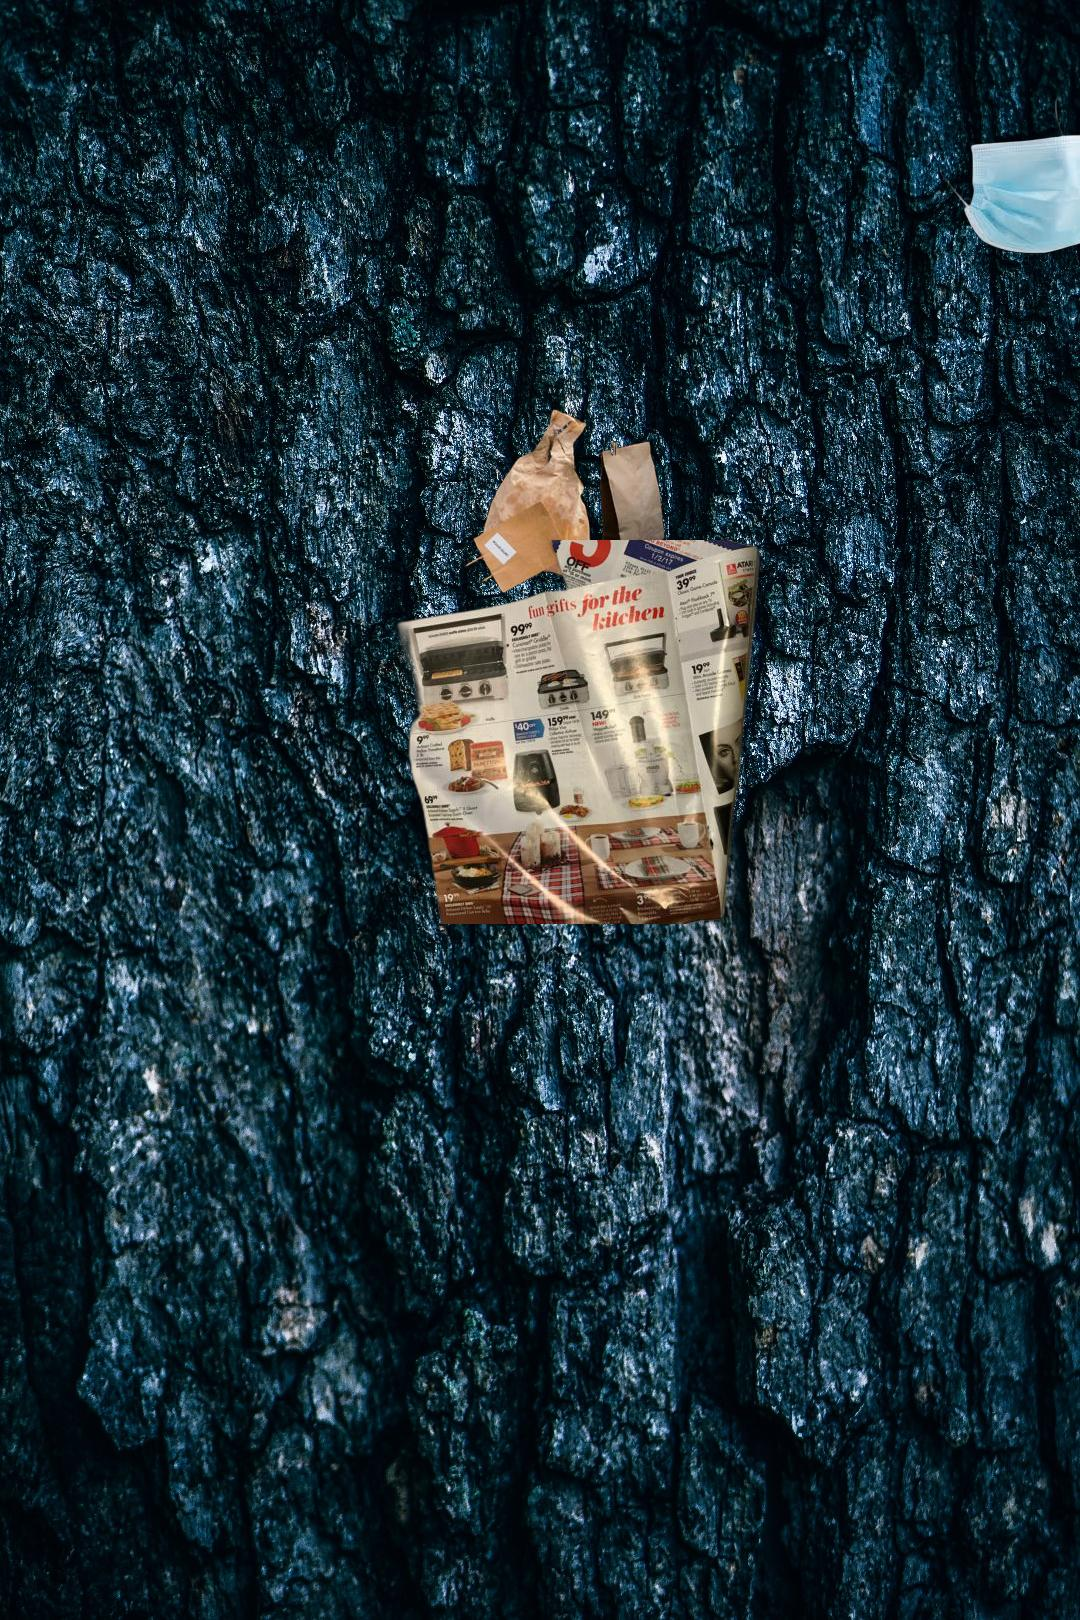paper: (392, 540, 765, 925)
paper-bag: (459, 407, 667, 595)
trash: (920, 95, 1080, 256)
